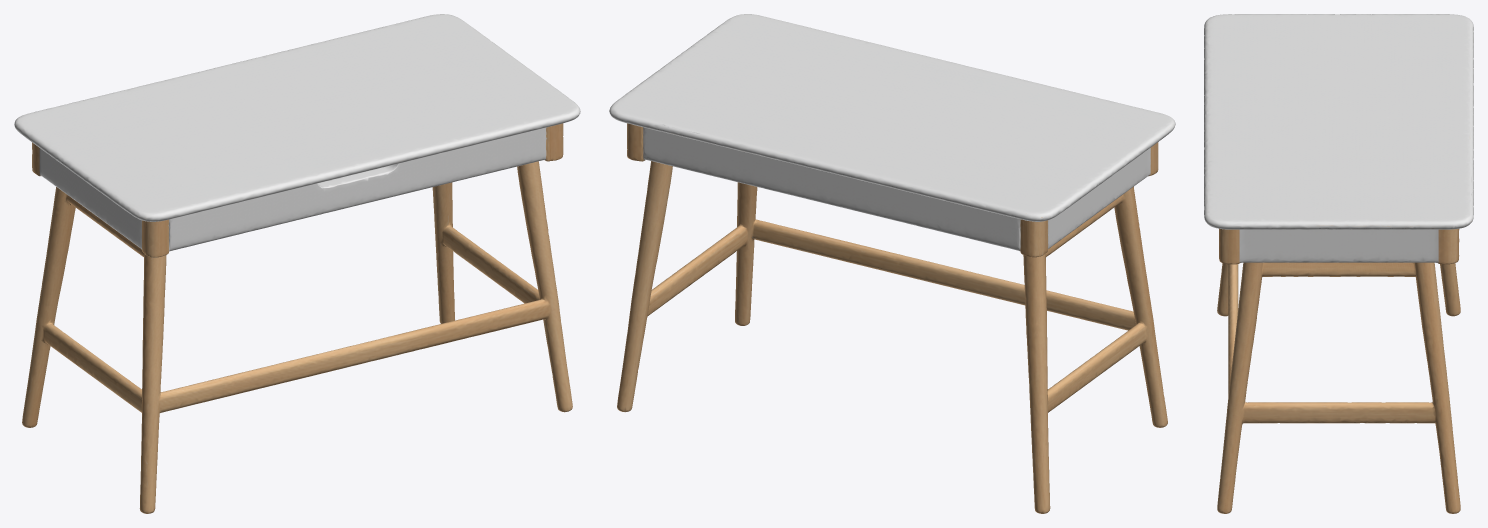
The model's file is desk_v2.glb.
3 renders of one model, left to right at view 1: azimuth 30°, elevation 25°; view 2: azimuth 150°, elevation 25°; view 3: azimuth 270°, elevation 25°, orthographic. The views are drawn at different scales.
Parts seen in each view (by area): view 1: world; view 2: world; view 3: world.
Part boxes in pixels (x1=…): world: x1=14, y1=14, x2=580, y2=513; world: x1=609, y1=14, x2=1175, y2=513; world: x1=1204, y1=14, x2=1473, y2=513.
Size of the model in its own units: 1 by 0.6558 by 0.5422.
Materials: 1 (1 with a texture image).
